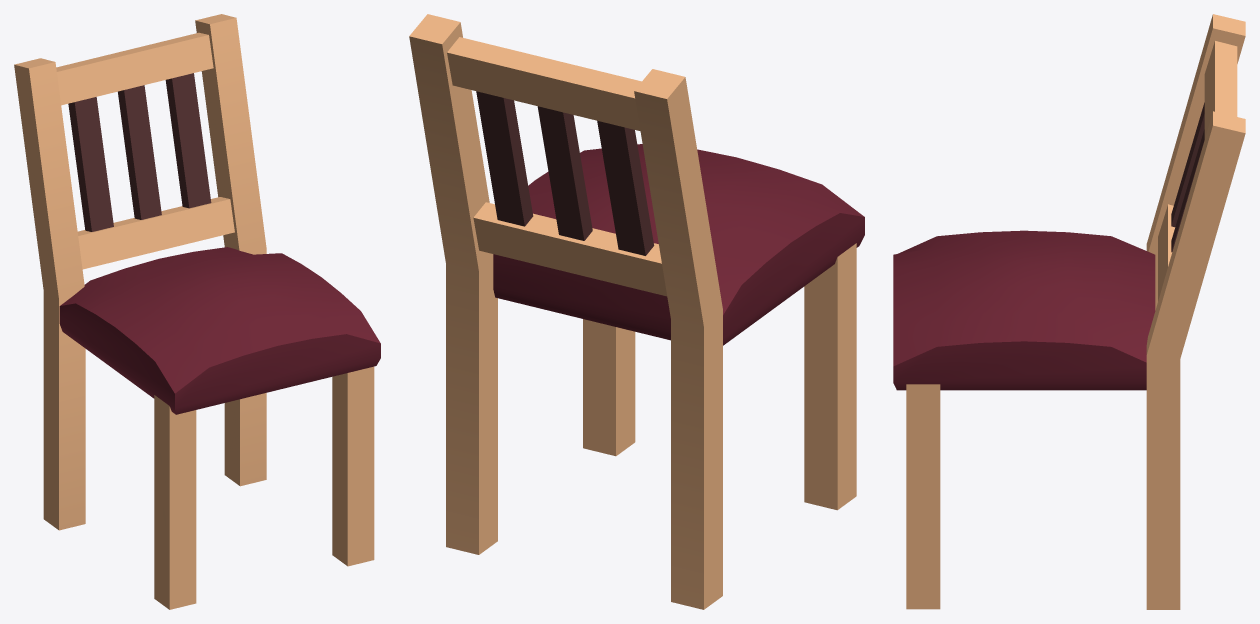
Rendered from Prop_Chair_04.fbx.
3 renders of one model, left to right at view 1: azimuth 30°, elevation 25°; view 2: azimuth 150°, elevation 25°; view 3: azimuth 270°, elevation 25°, orthographic. The views are drawn at different scales.
Parts seen in each view (by area): view 1: Prop_Chair_04; view 2: Prop_Chair_04; view 3: Prop_Chair_04.
Part boxes in pixels (x1=…): Prop_Chair_04: x1=14, y1=14, x2=380, y2=609; Prop_Chair_04: x1=409, y1=14, x2=864, y2=609; Prop_Chair_04: x1=893, y1=14, x2=1245, y2=609.
Size of the model in its own units: 48.25 by 97.71 by 64.42.
